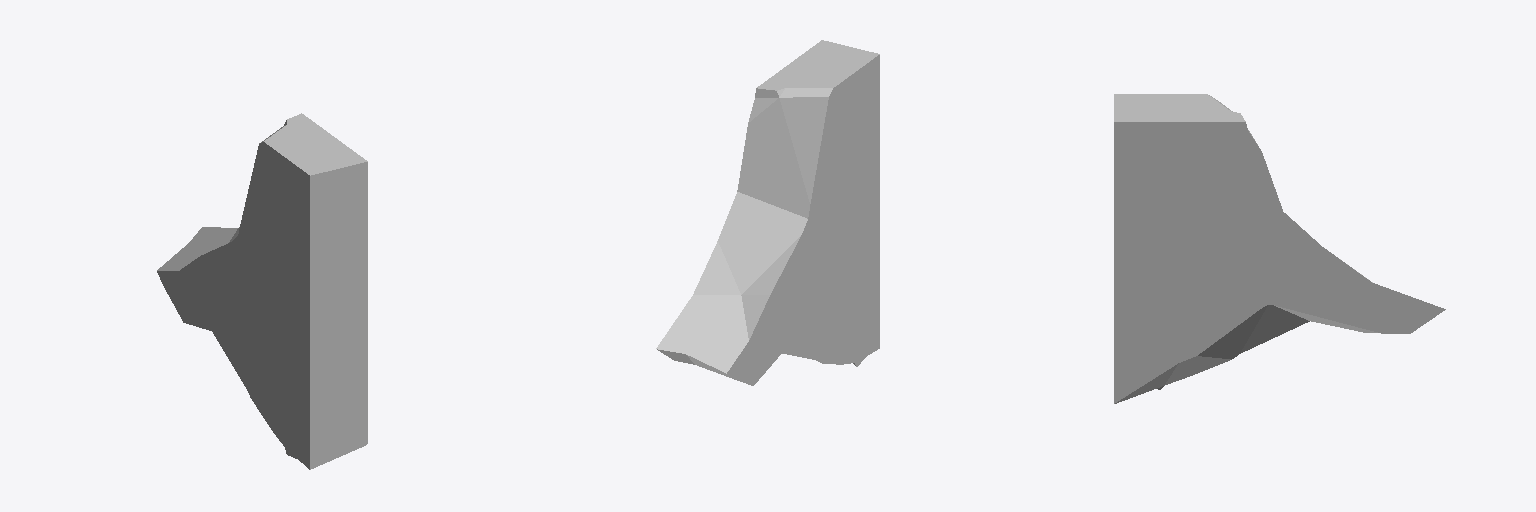
File: broken_wall_05.obj
3 renders of one model, left to right at view 1: azimuth 30°, elevation 25°; view 2: azimuth 150°, elevation 25°; view 3: azimuth 270°, elevation 25°, orthographic.
Visible parts, largest first — view 1: Cube.010_Cube.019; view 2: Cube.010_Cube.019; view 3: Cube.010_Cube.019.
Part boxes in pixels (x1,y1,x2,y2): Cube.010_Cube.019: (157,113,367,469); Cube.010_Cube.019: (656,40,879,385); Cube.010_Cube.019: (1114,94,1445,403).
Size of the model in its own units: 0.5 by 2.44 by 2.48.